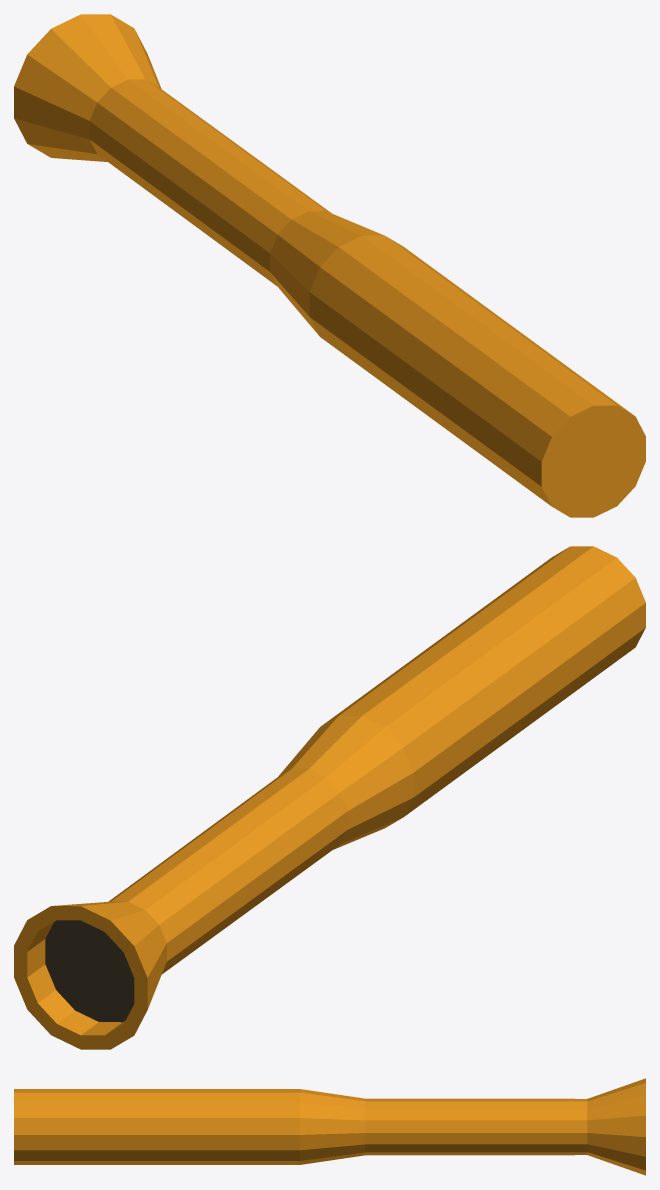
The model's file is stationary_turret_gun.glb.
3 renders of one model, top to bottom at view 1: azimuth 30°, elevation 25°; view 2: azimuth 150°, elevation 25°; view 3: azimuth 270°, elevation 25°, orthographic. The views are drawn at different scales.
Visible parts, largest first — view 1: turret_gun; view 2: turret_gun; view 3: turret_gun.
Boxes of the visible parts, x1,y1,x2,y2 form: turret_gun: (14, 14, 645, 517); turret_gun: (14, 546, 645, 1049); turret_gun: (14, 1078, 645, 1175).
Bounding box in the file's own units: 0.3976 × 0.4078 × 2.64.
